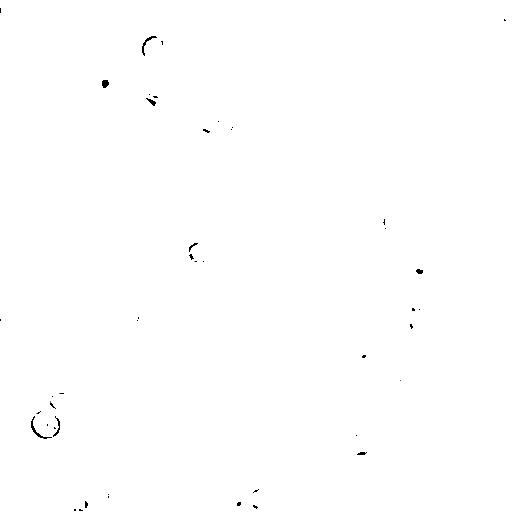micro-algae: (350, 271, 427, 347), (2, 321, 45, 407), (29, 52, 71, 96), (259, 384, 305, 424), (414, 313, 455, 353), (0, 148, 26, 205), (340, 439, 379, 477), (87, 65, 121, 99), (157, 257, 191, 291), (226, 31, 261, 64), (419, 2, 452, 35), (30, 407, 63, 439), (199, 97, 229, 131), (353, 419, 385, 450), (91, 168, 119, 203), (399, 254, 432, 283), (78, 417, 109, 447), (121, 73, 151, 102), (386, 364, 412, 397), (40, 176, 68, 205), (378, 0, 410, 25), (217, 487, 250, 511), (140, 31, 166, 60), (303, 151, 333, 176), (182, 128, 214, 151), (61, 453, 90, 478), (399, 289, 424, 318), (388, 321, 415, 347), (269, 61, 298, 85), (260, 435, 289, 459), (163, 361, 193, 384), (186, 237, 210, 263), (248, 487, 275, 509), (349, 342, 375, 364), (491, 5, 511, 33), (381, 213, 403, 237), (123, 302, 141, 331), (105, 481, 125, 507), (229, 120, 254, 140), (114, 443, 139, 463), (50, 494, 79, 511), (311, 101, 333, 123), (134, 101, 157, 122), (421, 495, 451, 511), (48, 389, 71, 409), (150, 485, 171, 506), (100, 79, 118, 103), (65, 495, 90, 511), (15, 170, 31, 191)
